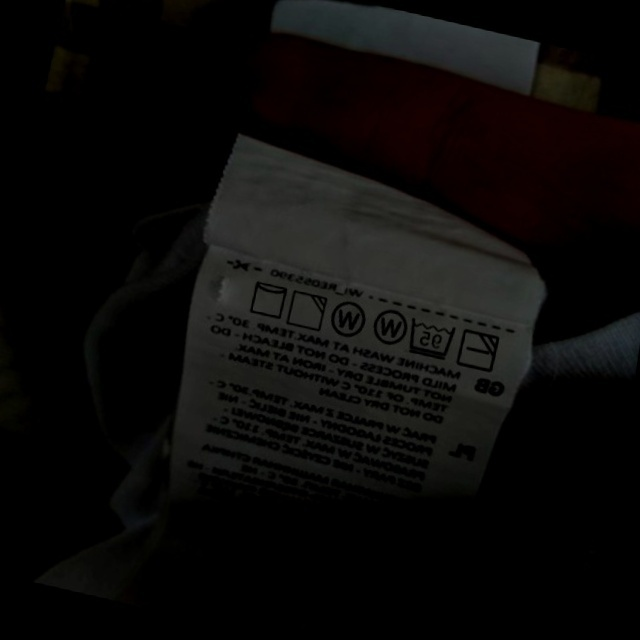95C: (402, 314, 459, 363)
dry_flat_in_shade: (455, 325, 503, 376)
line_dry: (244, 275, 292, 322)
shade_dry: (283, 287, 330, 334)
wet_clean: (325, 296, 370, 343), (367, 302, 411, 349)
